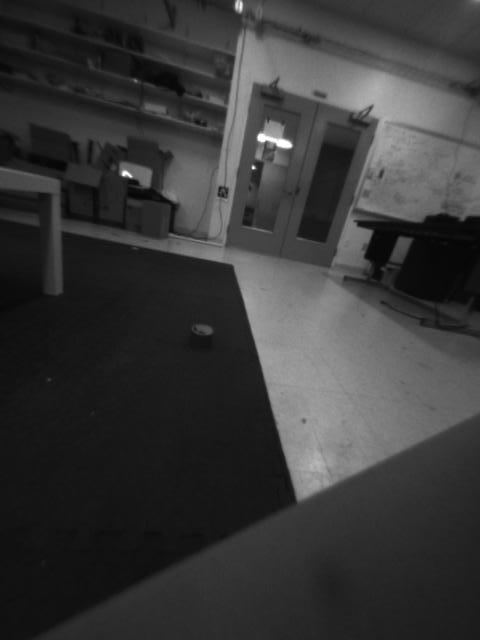dogtoy: (177, 316, 221, 348)
